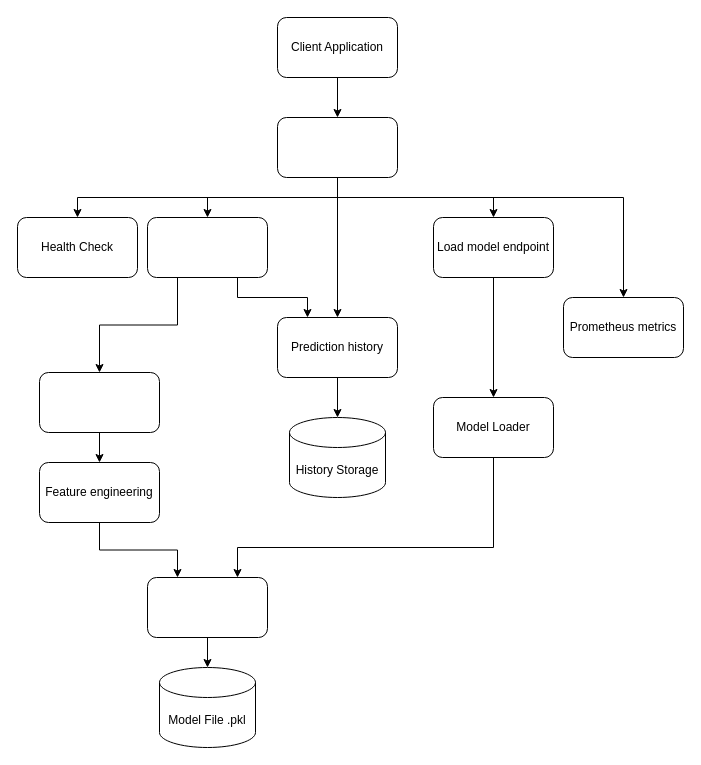
The diagram is 701 pixels wide and 765 high, and some of its shapes have lost their labels. Here are the shapes that lost their labels. From the top down, the centre of each, then its label:
At (337,147): "FastAPI".
At (207,247): "Prediction endpoint".
At (99,402): "Data Preprocessing".
At (207,607): "ML Model".
